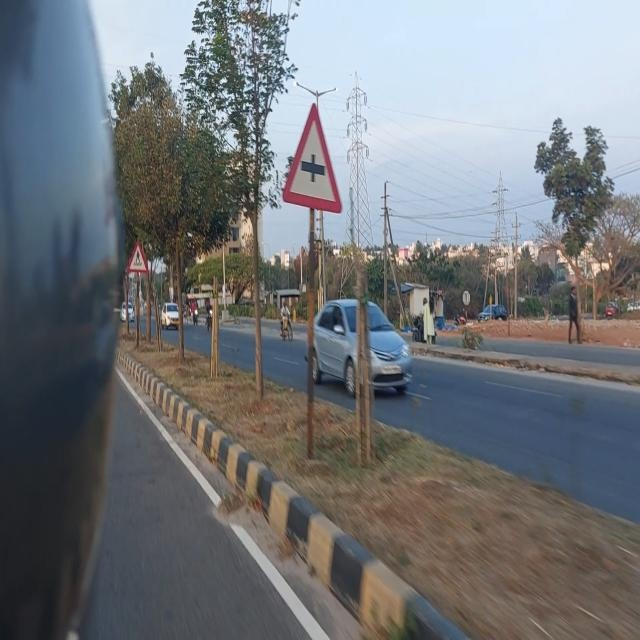bien_nguy_hiem: (279, 98, 346, 217), (127, 234, 149, 276)
